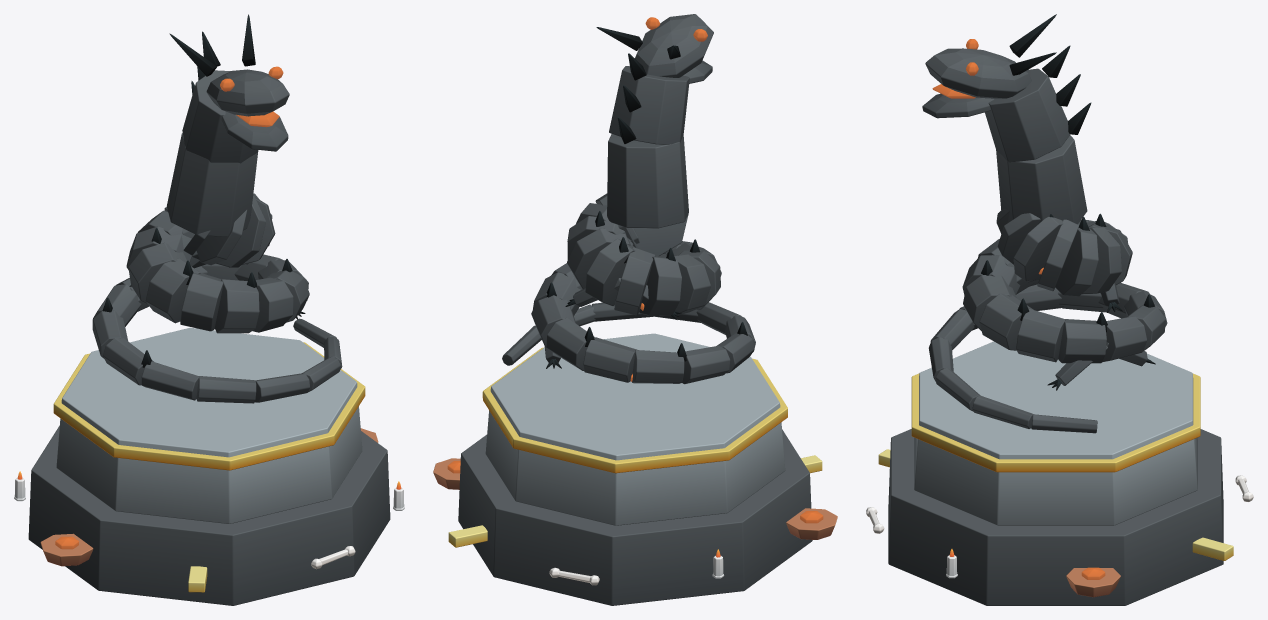
File: salamander_idol.glb
The picture shows the model from 3 angles, left to right: view 1: azimuth 30°, elevation 25°; view 2: azimuth 150°, elevation 25°; view 3: azimuth 270°, elevation 25°; orthographic projection. The views are drawn at different scales.
Visible parts, largest first — view 1: salamander_idol; view 2: salamander_idol; view 3: salamander_idol.
Part boxes in pixels (x1=…): salamander_idol: x1=14, y1=14, x2=404, y2=605; salamander_idol: x1=433, y1=14, x2=837, y2=605; salamander_idol: x1=866, y1=14, x2=1253, y2=605.
Bounding box in the file's own units: 3.04 × 3.97 × 2.78.
5 materials, 5 textured.
